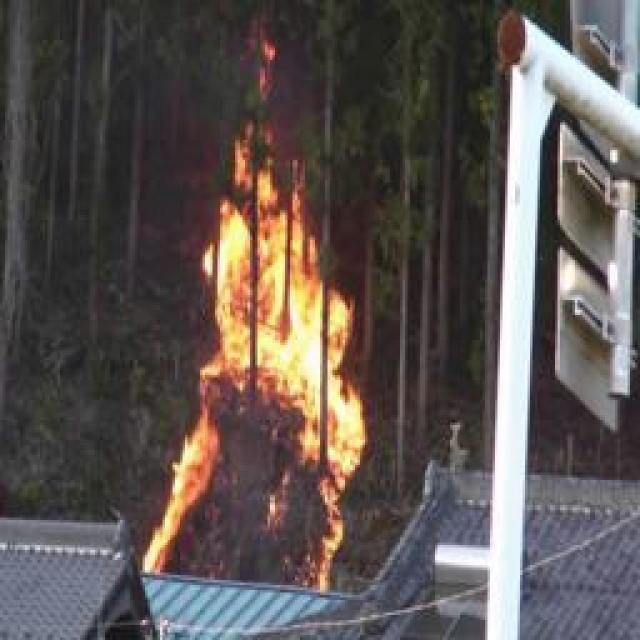Fire: (163, 150, 366, 579)
